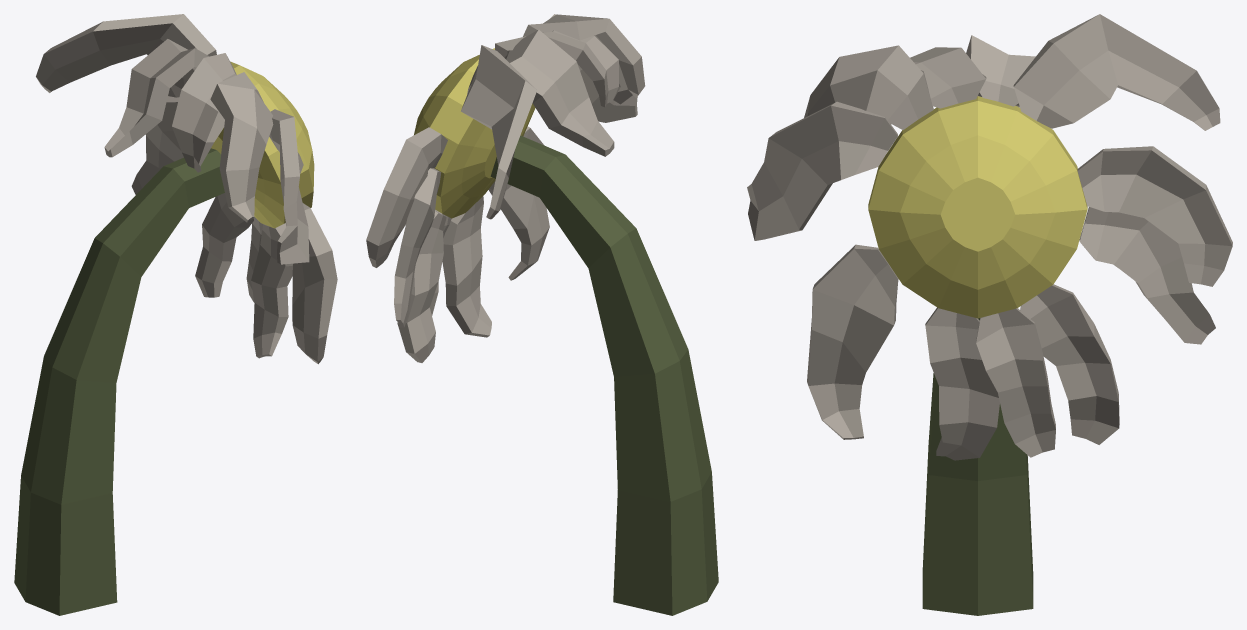
Rendered from daisy_wilting.fbx.
The picture shows the model from 3 angles, left to right: view 1: azimuth 30°, elevation 25°; view 2: azimuth 150°, elevation 25°; view 3: azimuth 270°, elevation 25°; orthographic projection. The views are drawn at different scales.
Parts seen in each view (by area): view 1: daisy.center; view 2: daisy.center; view 3: daisy.center.
Boxes of the visible parts, left/top/right/bottom form: daisy.center: left=14, top=14, right=337, bottom=615; daisy.center: left=366, top=14, right=718, bottom=615; daisy.center: left=747, top=14, right=1232, bottom=615.
Bounding box in the file's own units: 532 × 961 × 663.
